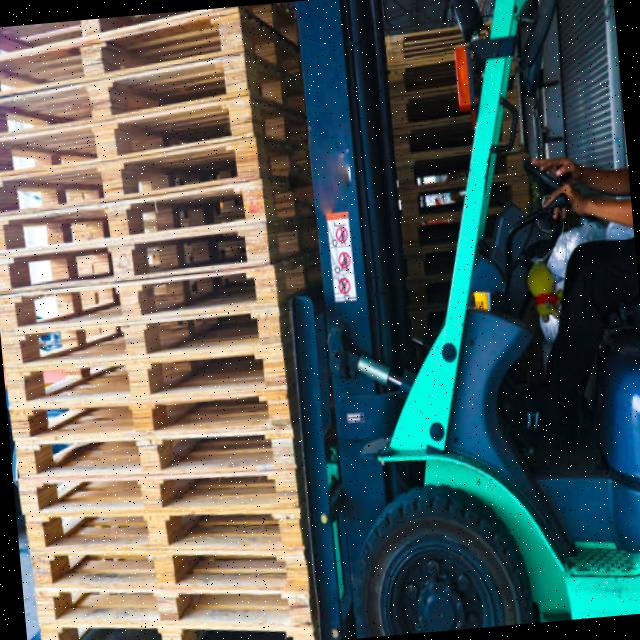Wooden-Pallets: (0, 133, 271, 238), (2, 321, 285, 420), (0, 49, 262, 152), (0, 181, 272, 259), (1, 260, 287, 334), (18, 507, 311, 566), (9, 426, 306, 484), (34, 589, 316, 633)
